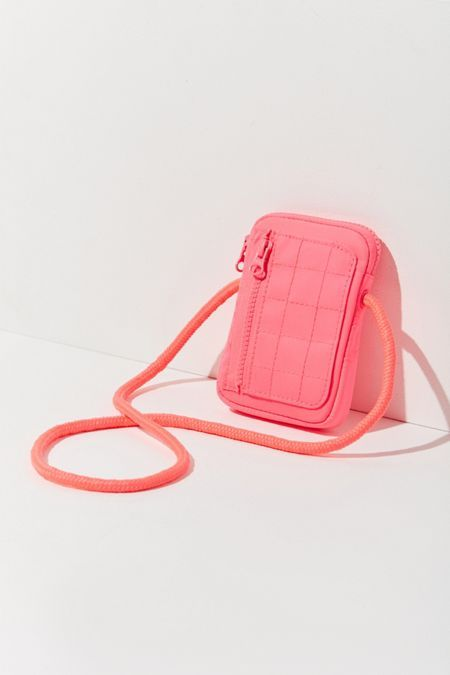nylon: (217, 211, 382, 430)
